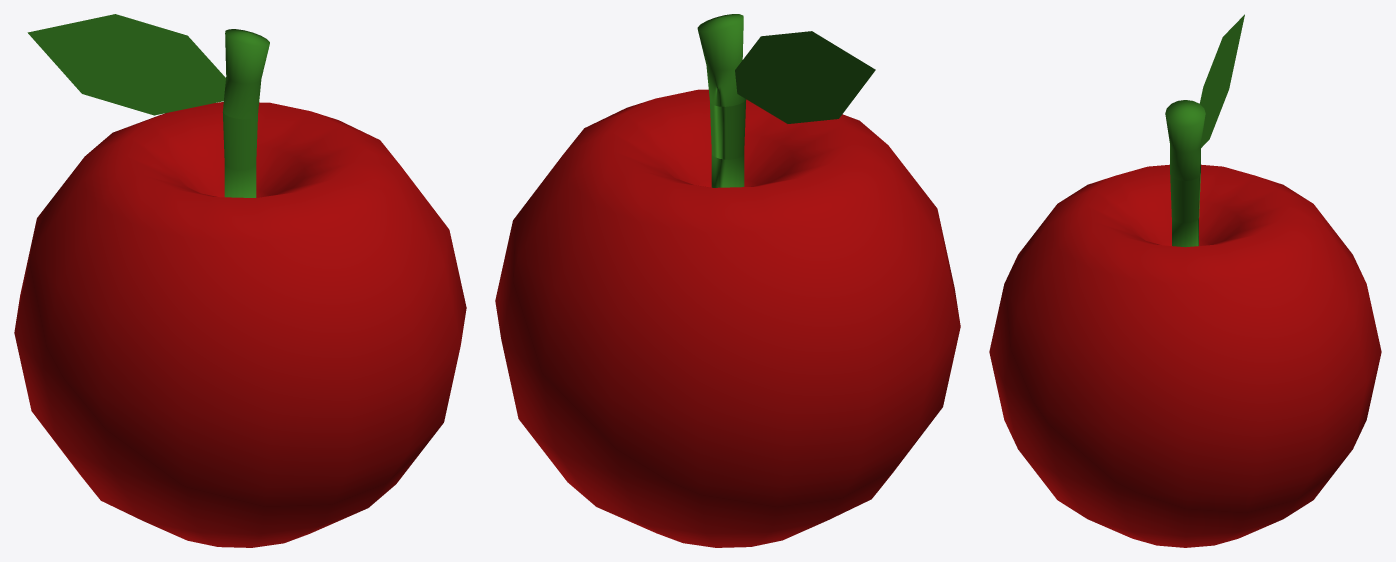
The model's file is manzana.obj.
The picture shows the model from 3 angles, left to right: view 1: azimuth 30°, elevation 25°; view 2: azimuth 150°, elevation 25°; view 3: azimuth 270°, elevation 25°; orthographic projection. The views are drawn at different scales.
Visible parts, largest first — view 1: Sphere; view 2: Sphere; view 3: Sphere.
Boxes of the visible parts, bbox=[...] form: Sphere: bbox=[14, 14, 466, 547]; Sphere: bbox=[495, 14, 960, 547]; Sphere: bbox=[989, 14, 1381, 547].
Bounding box in the file's own units: 2 × 2.5 × 2.
